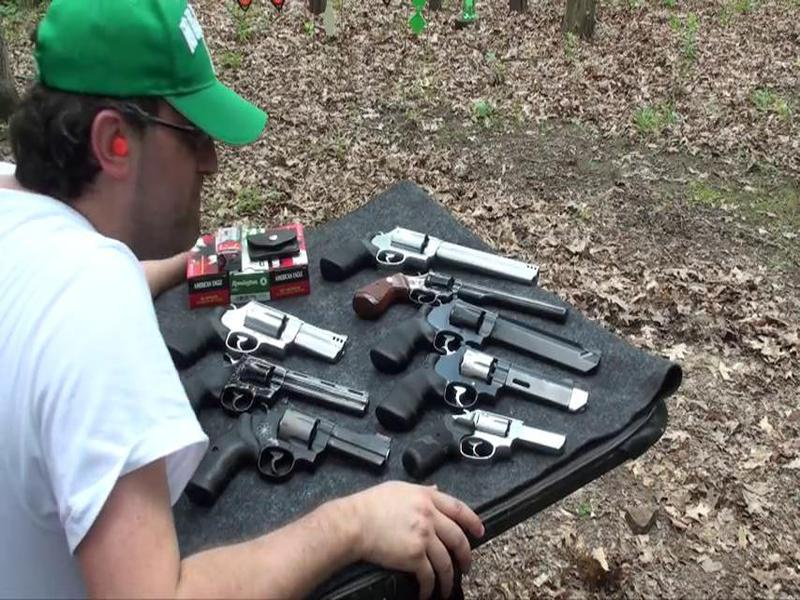Revolver: (320, 208, 552, 294)
